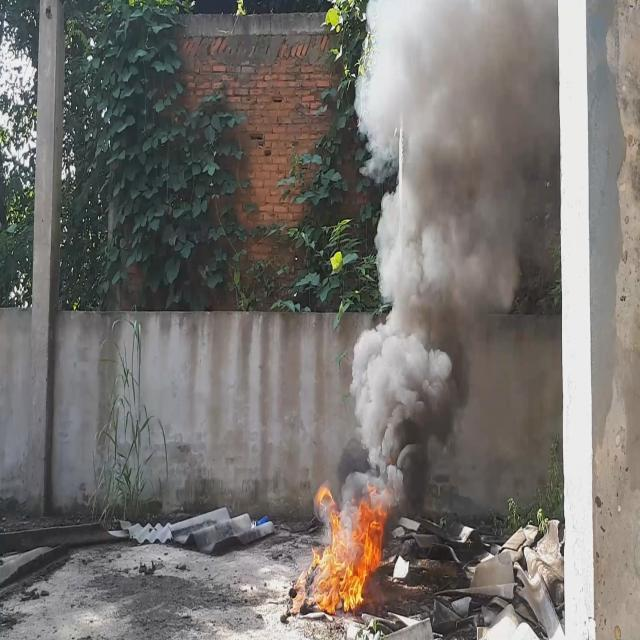Fire: (313, 476, 388, 614)
Smoke: (351, 0, 558, 515)
